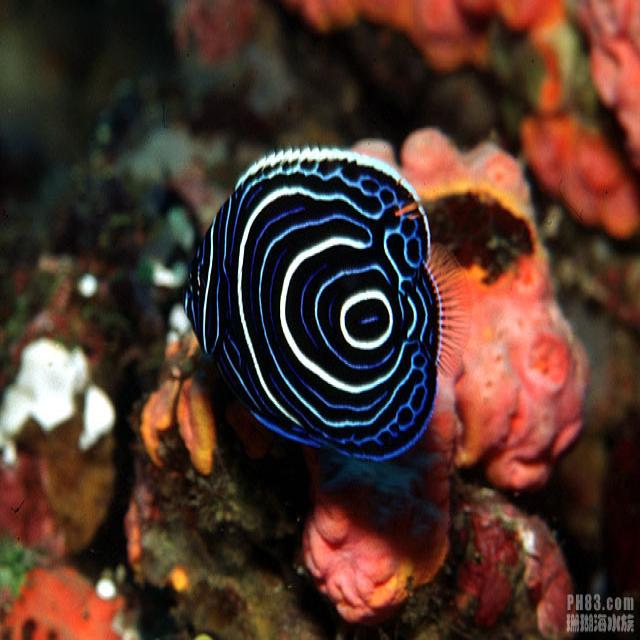AngelFish: (185, 147, 466, 466)
